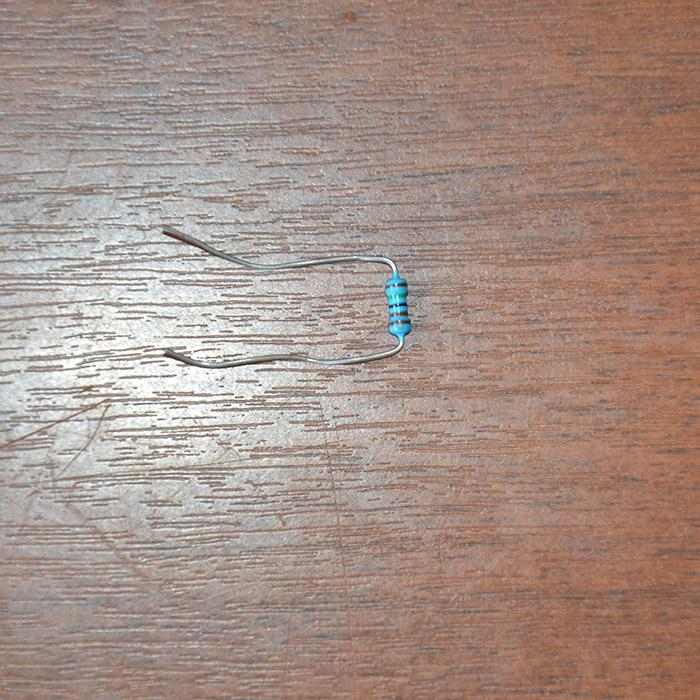resistor: (383, 274, 412, 340)
